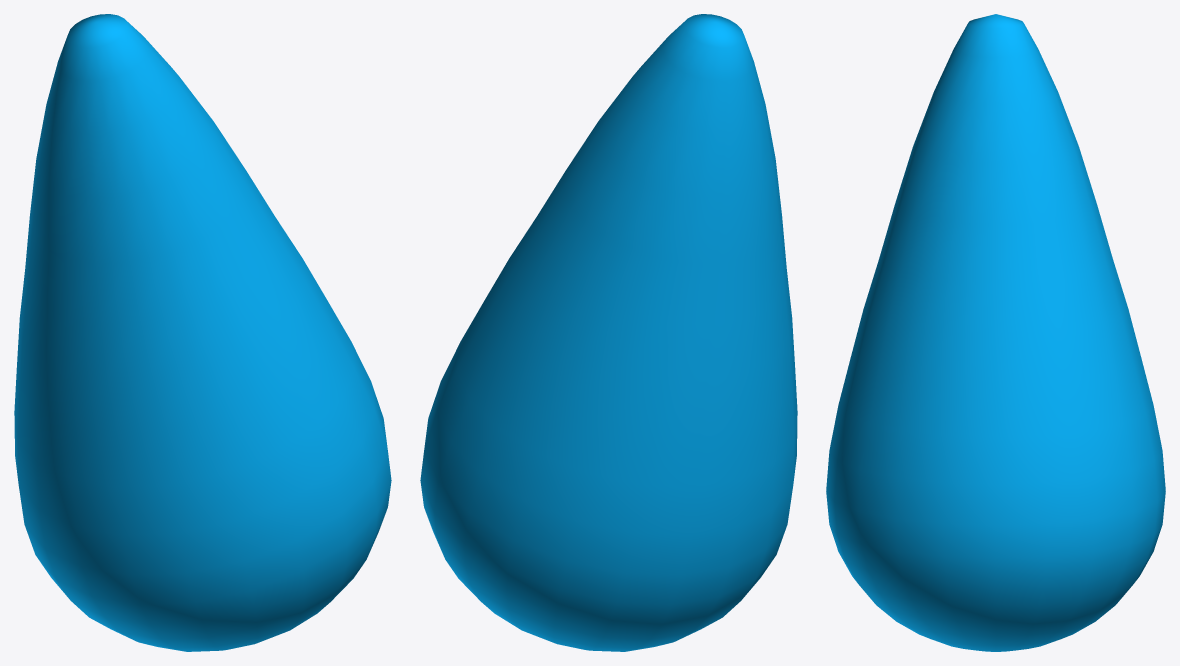
File: water.fbx
The picture shows the model from 3 angles, left to right: view 1: azimuth 30°, elevation 25°; view 2: azimuth 150°, elevation 25°; view 3: azimuth 270°, elevation 25°; orthographic projection. The views are drawn at different scales.
Visible parts, largest first — view 1: pSphere1; view 2: pSphere1; view 3: pSphere1.
Part boxes in pixels (box(x1,y1,x2,y2)): pSphere1: box(14, 14, 391, 651); pSphere1: box(420, 14, 797, 651); pSphere1: box(826, 14, 1165, 651).
Bounding box in the file's own units: 1.93 × 3.56 × 1.91.
